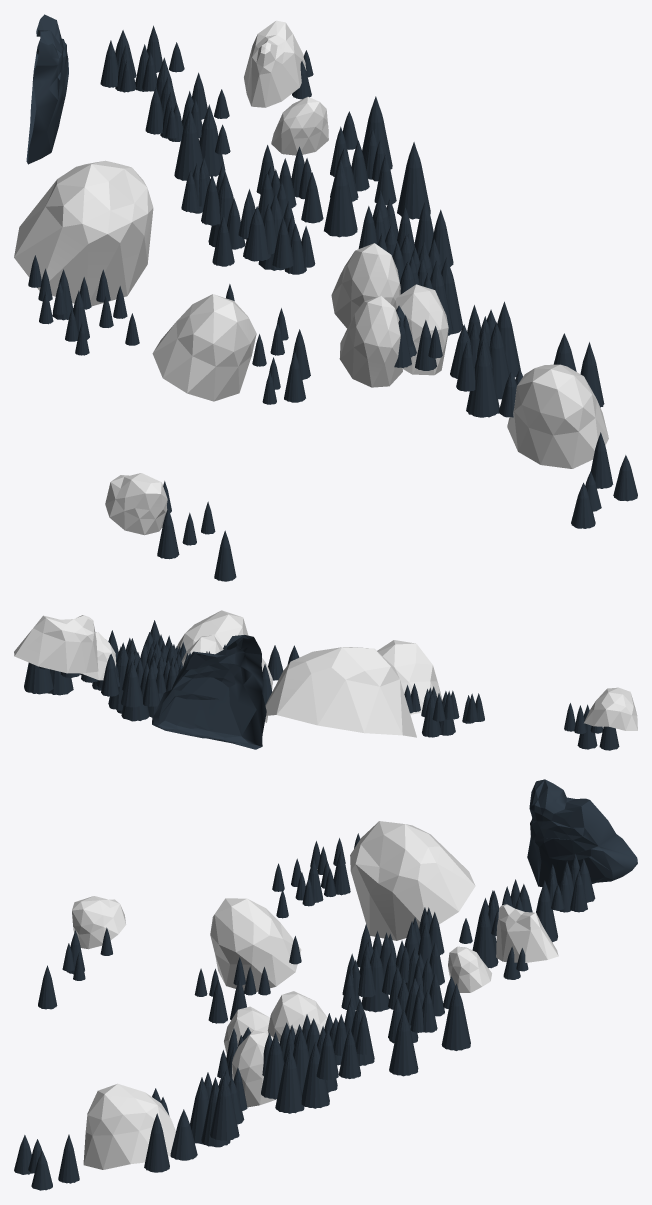
Rendered from mountainShape4.glb.
The picture shows the model from 3 angles, top to bottom: view 1: azimuth 30°, elevation 25°; view 2: azimuth 150°, elevation 25°; view 3: azimuth 270°, elevation 25°; orthographic projection. The views are drawn at different scales.
Visible parts, largest first — view 1: Icosphere.004, Icosphere.010, Icosphere.003, Icosphere.005, mountainShape1.001, Icosphere.007, Icosphere.002, Icosphere.009, Icosphere.008, Icosphere.006, farTree1.052, farTree1.066 (+8 smaller); view 2: Icosphere.004, mountainShape1.001, Icosphere.007, Icosphere.003, Icosphere.009, Icosphere.010, farTree1.043, farTree1.089, Icosphere.008, farTree1.052, Icosphere.002, farTree1.113 (+14 smaller); view 3: Icosphere.004, mountainShape1.001, Icosphere.003, Icosphere.010, Icosphere.007, Icosphere.009, Icosphere.006, Icosphere.002, Icosphere.008, farTree1.043, farTree1.039, farTree1.004 (+15 smaller).
Boxes of the visible parts, x1=… form: Icosphere.004: x1=14, y1=160, x2=153, y2=306; Icosphere.010: x1=507, y1=364, x2=608, y2=468; Icosphere.003: x1=152, y1=294, x2=256, y2=401; Icosphere.005: x1=339, y1=296, x2=402, y2=387; mountainShape1.001: x1=26, y1=14, x2=68, y2=164; Icosphere.007: x1=244, y1=20, x2=306, y2=107; Icosphere.002: x1=331, y1=243, x2=400, y2=328; Icosphere.009: x1=105, y1=473, x2=167, y2=535; Icosphere.008: x1=271, y1=97, x2=328, y2=155; Icosphere.006: x1=393, y1=284, x2=448, y2=375; farTree1.052: x1=324, y1=159, x2=357, y2=237; farTree1.066: x1=466, y1=340, x2=499, y2=417; Icosphere.004: x1=265, y1=647, x2=416, y2=737; mountainShape1.001: x1=152, y1=635, x2=266, y2=749; Icosphere.007: x1=14, y1=615, x2=98, y2=673; Icosphere.003: x1=377, y1=640, x2=442, y2=714; Icosphere.009: x1=584, y1=687, x2=637, y2=730; Icosphere.010: x1=177, y1=610, x2=248, y2=651; farTree1.043: x1=24, y1=662, x2=53, y2=694; farTree1.089: x1=121, y1=662, x2=142, y2=707; Icosphere.008: x1=79, y1=632, x2=116, y2=680; farTree1.052: x1=108, y1=642, x2=128, y2=710; Icosphere.002: x1=181, y1=635, x2=223, y2=666; farTree1.113: x1=422, y1=692, x2=441, y2=737; Icosphere.004: x1=350, y1=821, x2=475, y2=940; mountainShape1.001: x1=527, y1=779, x2=637, y2=888; Icosphere.003: x1=210, y1=898, x2=301, y2=991; Icosphere.010: x1=83, y1=1083, x2=175, y2=1169; Icosphere.007: x1=496, y1=904, x2=558, y2=962; Icosphere.009: x1=72, y1=896, x2=125, y2=949; Icosphere.006: x1=232, y1=1030, x2=279, y2=1107; Icosphere.002: x1=267, y1=991, x2=333, y2=1041; Icosphere.008: x1=448, y1=946, x2=491, y2=992; farTree1.043: x1=441, y1=983, x2=470, y2=1050; farTree1.039: x1=389, y1=1009, x2=418, y2=1076; farTree1.004: x1=210, y1=1073, x2=239, y2=1140.
Bounding box in the file's own units: 117 × 70.42 × 138.
Materials: 1 (1 with a texture image).
